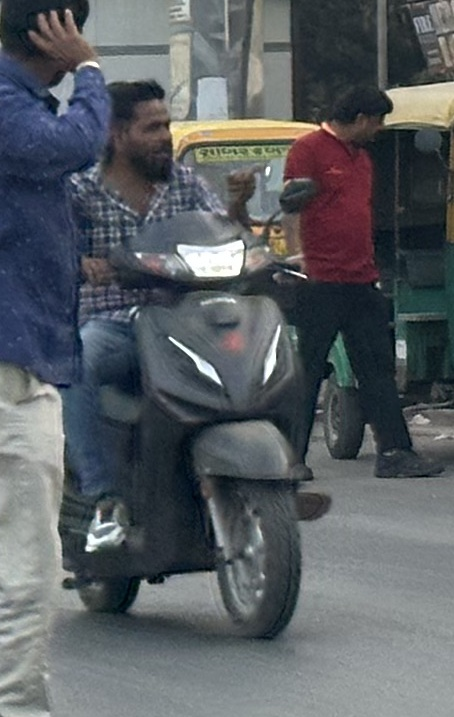BikeWithRider: (42, 68, 338, 647)
NoHelmet: (97, 72, 183, 182)
